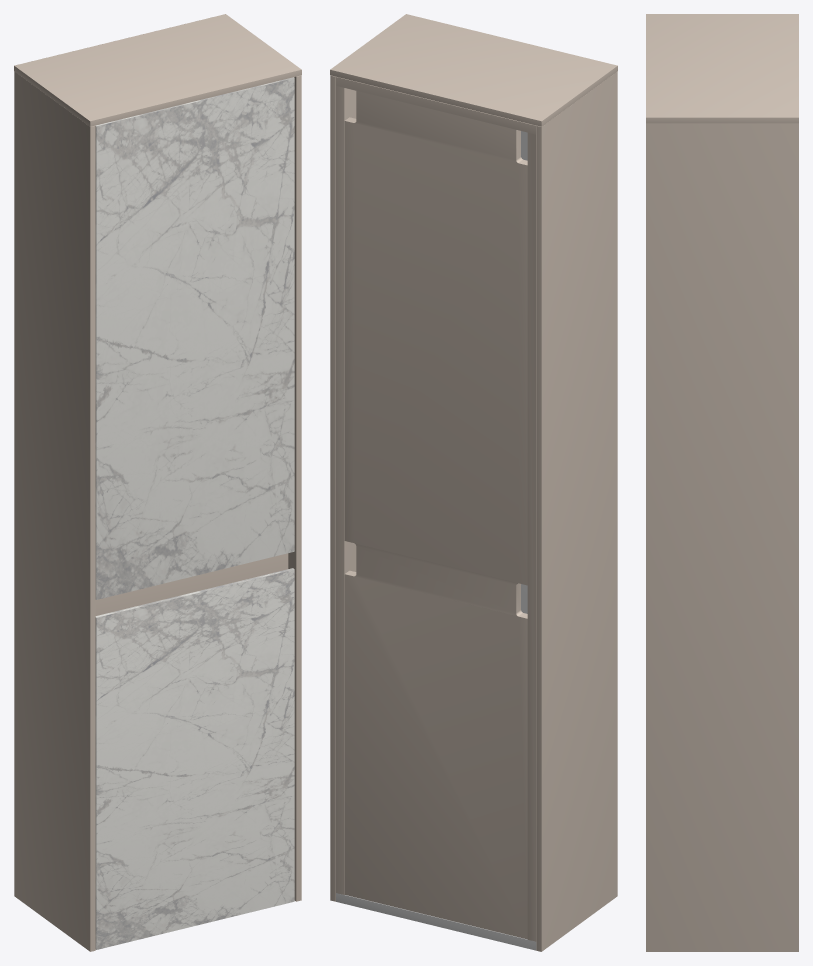
3 views of the same model, side by side, from view 1: azimuth 30°, elevation 25°; view 2: azimuth 150°, elevation 25°; view 3: azimuth 270°, elevation 25° (orthographic).
Parts seen in each view (by area): view 1: EL11; view 2: EL11; view 3: EL11.
Part boxes in pixels (x1=…): EL11: x1=14, y1=14, x2=301, y2=951; EL11: x1=330, y1=14, x2=617, y2=951; EL11: x1=646, y1=14, x2=798, y2=951.
Size of the model in its own units: 0.4 by 1.5 by 0.2491.
4 materials, 1 textured.
